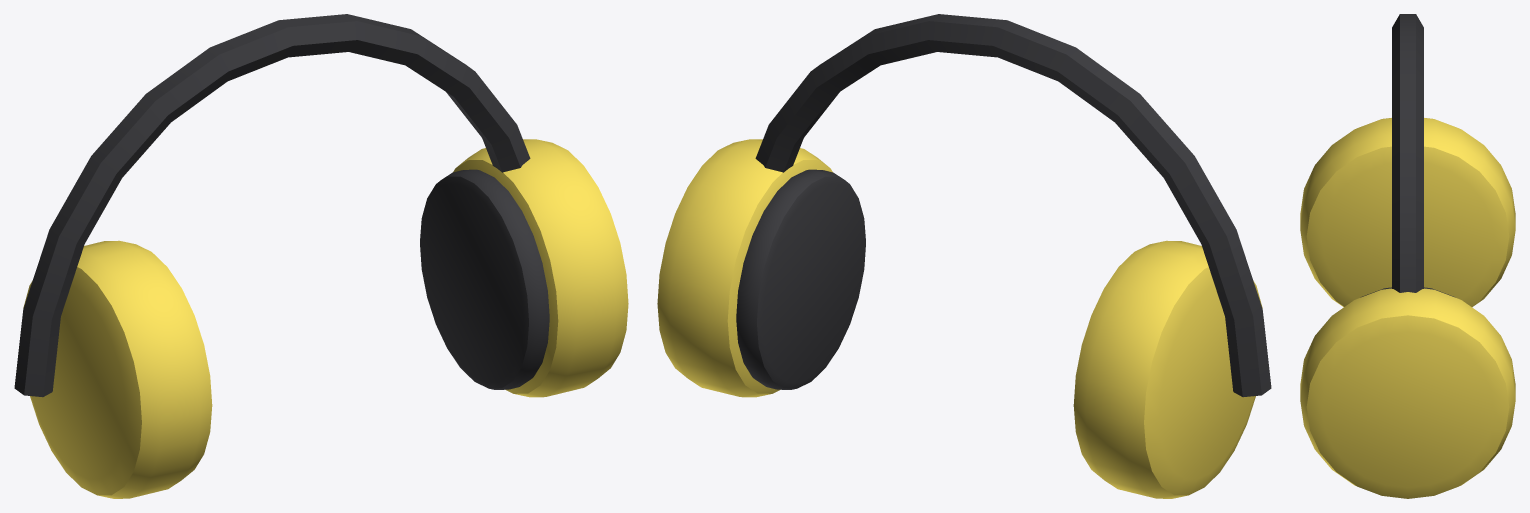
The model's file is SER-EPI-005.glb.
3 views of the same model, side by side, from view 1: azimuth 30°, elevation 25°; view 2: azimuth 150°, elevation 25°; view 3: azimuth 270°, elevation 25° (orthographic). The views are drawn at different scales.
Parts seen in each view (by area): view 1: SER-EPI-005_concha-1, SER-EPI-005_arco, SER-EPI-005_almofada1, SER-EPI-005_concha1; view 2: SER-EPI-005_concha-1, SER-EPI-005_arco, SER-EPI-005_almofada1, SER-EPI-005_concha1; view 3: SER-EPI-005_concha1, SER-EPI-005_concha-1, SER-EPI-005_arco.
Part boxes in pixels (left/top/right/bottom): SER-EPI-005_concha-1: left=23, top=240, right=212, bottom=498; SER-EPI-005_arco: left=14, top=14, right=530, bottom=397; SER-EPI-005_almofada1: left=420, top=169, right=549, bottom=389; SER-EPI-005_concha1: left=453, top=139, right=628, bottom=397; SER-EPI-005_concha-1: left=1073, top=240, right=1262, bottom=498; SER-EPI-005_arco: left=755, top=14, right=1271, bottom=397; SER-EPI-005_almofada1: left=736, top=169, right=865, bottom=389; SER-EPI-005_concha1: left=657, top=139, right=832, bottom=397; SER-EPI-005_concha1: left=1300, top=288, right=1515, bottom=498; SER-EPI-005_concha-1: left=1300, top=118, right=1515, bottom=307; SER-EPI-005_arco: left=1392, top=14, right=1423, bottom=292.
Size of the model in its own units: 0.2002 by 0.1452 by 0.08.
